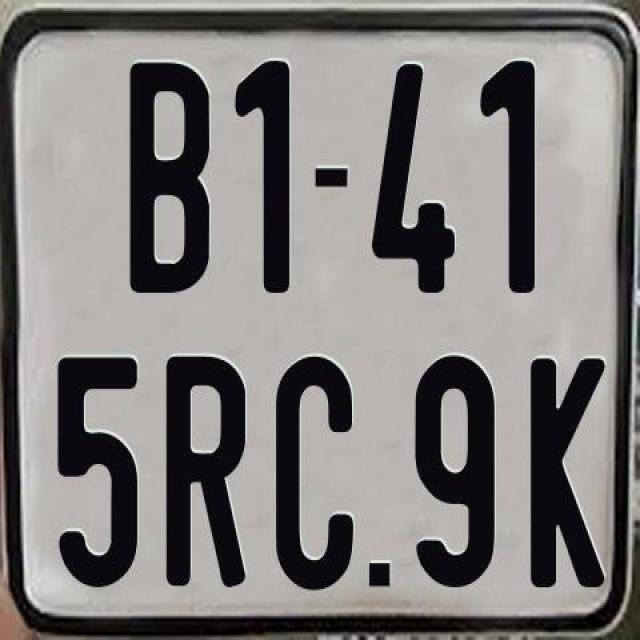1: (234, 59, 294, 293), (478, 56, 536, 296)
4: (371, 59, 462, 291)
5: (55, 357, 142, 590)
9: (412, 352, 500, 589)
B: (130, 61, 210, 301)
C: (276, 352, 355, 595)
K: (530, 357, 610, 596)
